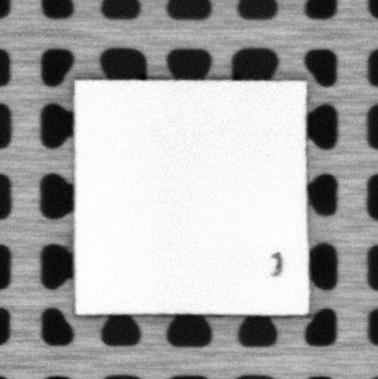DIE_INK: (269, 249, 284, 278)
